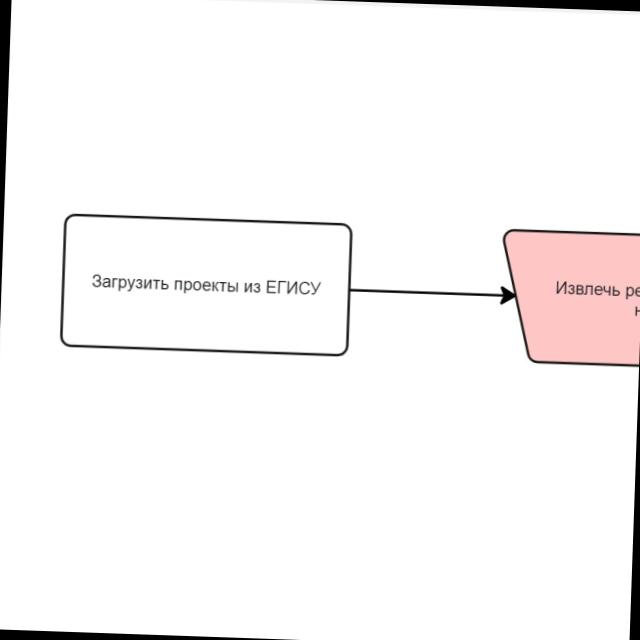arrow: (349, 276, 516, 306)
rectangle: (58, 212, 354, 358)
